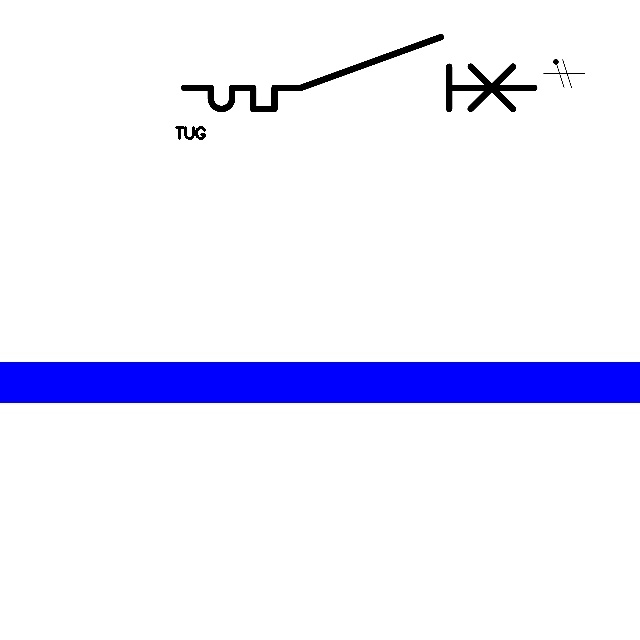interruptor_termomagnetico: (175, 28, 544, 118)
